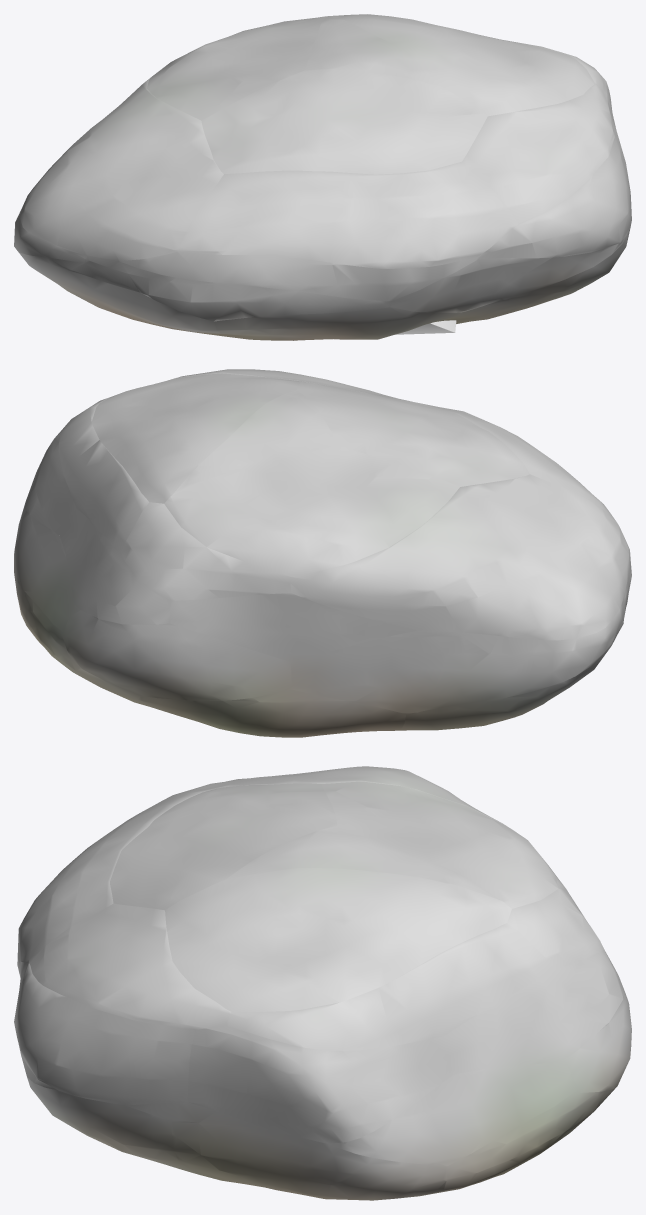
File: coal_rock_v5.glb
3 renders of one model, top to bottom at view 1: azimuth 30°, elevation 25°; view 2: azimuth 150°, elevation 25°; view 3: azimuth 270°, elevation 25°, orthographic. The views are drawn at different scales.
Visible parts, largest first — view 1: Chunk_23, Chunk_28, Chunk_22, Chunk_24, Chunk_29, Chunk_27, Chunk_17, Chunk_18, Chunk_10, Chunk_11, Chunk_04, Chunk_03 (+4 smaller); view 2: Chunk_22, Chunk_27, Chunk_09, Chunk_29, Chunk_08, Chunk_28, Chunk_15, Chunk_21, Chunk_02, Chunk_14, Chunk_25, Chunk_30 (+6 smaller); view 3: Chunk_29, Chunk_19, Chunk_25, Chunk_28, Chunk_18, Chunk_24, Chunk_27, Chunk_00, Chunk_07, Chunk_14, Chunk_23, Chunk_30 (+6 smaller).
Boxes of the visible parts, x1,y1,x2,y2 form: Chunk_23: (178, 161, 518, 268); Chunk_28: (201, 69, 487, 174); Chunk_22: (19, 77, 223, 261); Chunk_24: (462, 83, 614, 223); Chunk_29: (327, 14, 594, 116); Chunk_27: (147, 16, 325, 120); Chunk_17: (120, 251, 478, 301); Chunk_18: (478, 111, 631, 259); Chunk_10: (84, 255, 391, 321); Chunk_11: (391, 235, 626, 312); Chunk_04: (214, 307, 462, 340); Chunk_03: (19, 252, 238, 338); Chunk_22: (290, 474, 629, 640); Chunk_27: (164, 445, 459, 576); Chunk_09: (290, 594, 625, 714); Chunk_29: (92, 373, 300, 503); Chunk_08: (62, 606, 291, 700); Chunk_28: (297, 381, 529, 486); Chunk_15: (170, 593, 416, 661); Chunk_21: (121, 502, 290, 600); Chunk_02: (141, 689, 405, 737); Chunk_14: (59, 508, 171, 624); Chunk_25: (58, 396, 148, 551); Chunk_30: (172, 390, 338, 494); Chunk_29: (165, 868, 511, 1011); Chunk_19: (187, 1026, 453, 1143); Chunk_25: (226, 923, 554, 1050); Chunk_28: (110, 783, 337, 910); Chunk_18: (14, 961, 194, 1105); Chunk_24: (30, 903, 231, 1029); Chunk_27: (321, 781, 558, 908); Chunk_00: (171, 1122, 446, 1200); Chunk_07: (329, 1061, 579, 1166); Chunk_14: (444, 949, 623, 1074); Chunk_23: (18, 789, 214, 963); Chunk_30: (226, 825, 500, 900).
Bounding box in the file's own units: 3.05 × 1.18 × 2.46.
